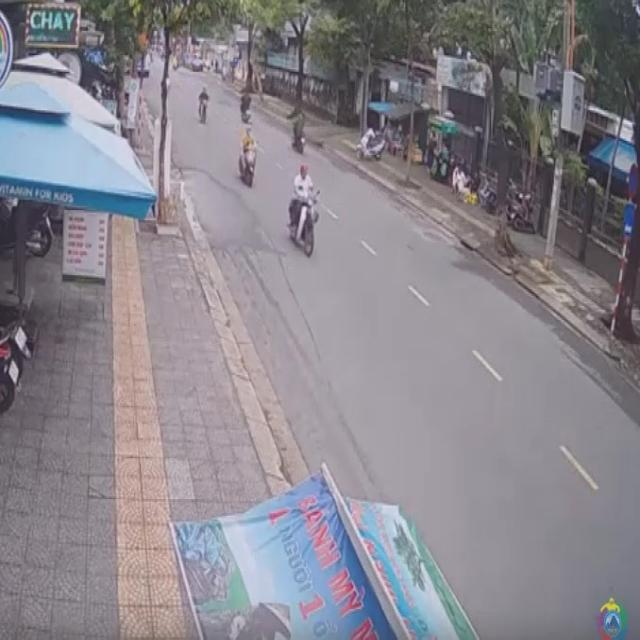motorbike: (286, 166, 319, 256), (238, 129, 257, 184), (289, 114, 307, 153)
